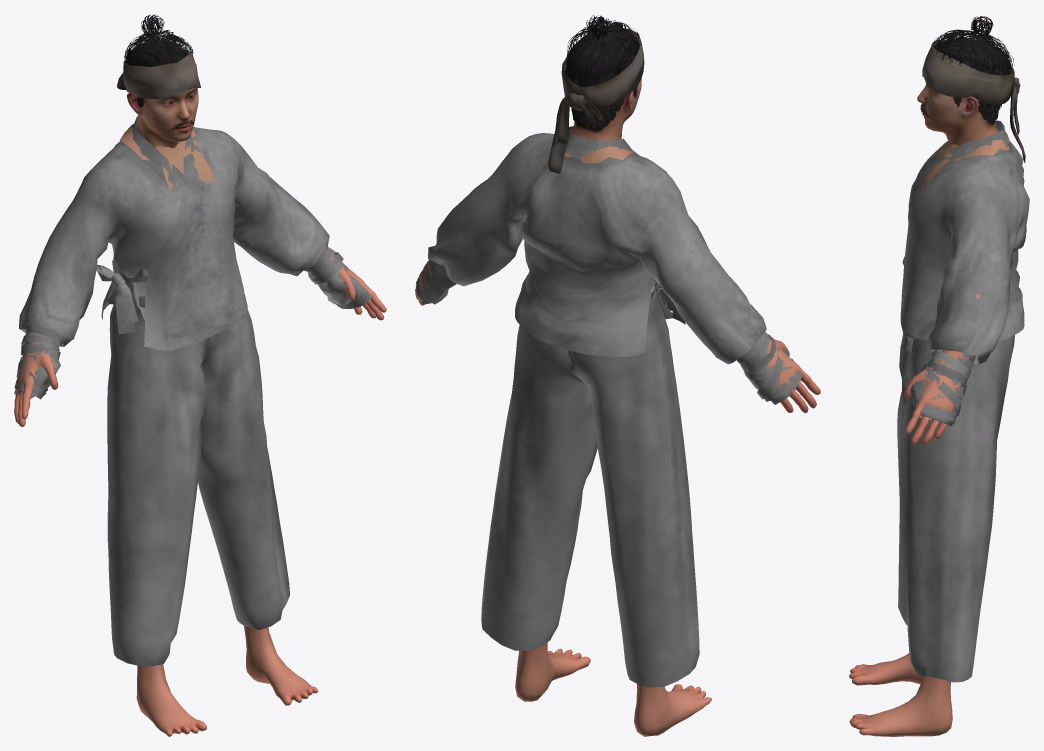
File: butcher.fbx
3 views of the same model, side by side, from view 1: azimuth 30°, elevation 25°; view 2: azimuth 150°, elevation 25°; view 3: azimuth 270°, elevation 25° (orthographic). The views are drawn at different scales.
Parts seen in each view (by area): view 1: NPC_Butcher_Mesh_0; view 2: NPC_Butcher_Mesh_0; view 3: NPC_Butcher_Mesh_0.
Boxes of the visible parts, <box> form: NPC_Butcher_Mesh_0: <box>14,14,386,736</box>; NPC_Butcher_Mesh_0: <box>415,15,820,736</box>; NPC_Butcher_Mesh_0: <box>849,16,1029,736</box>.
Size of the model in its own units: 99.89 by 176 by 42.34.
3 materials, 3 textured.
